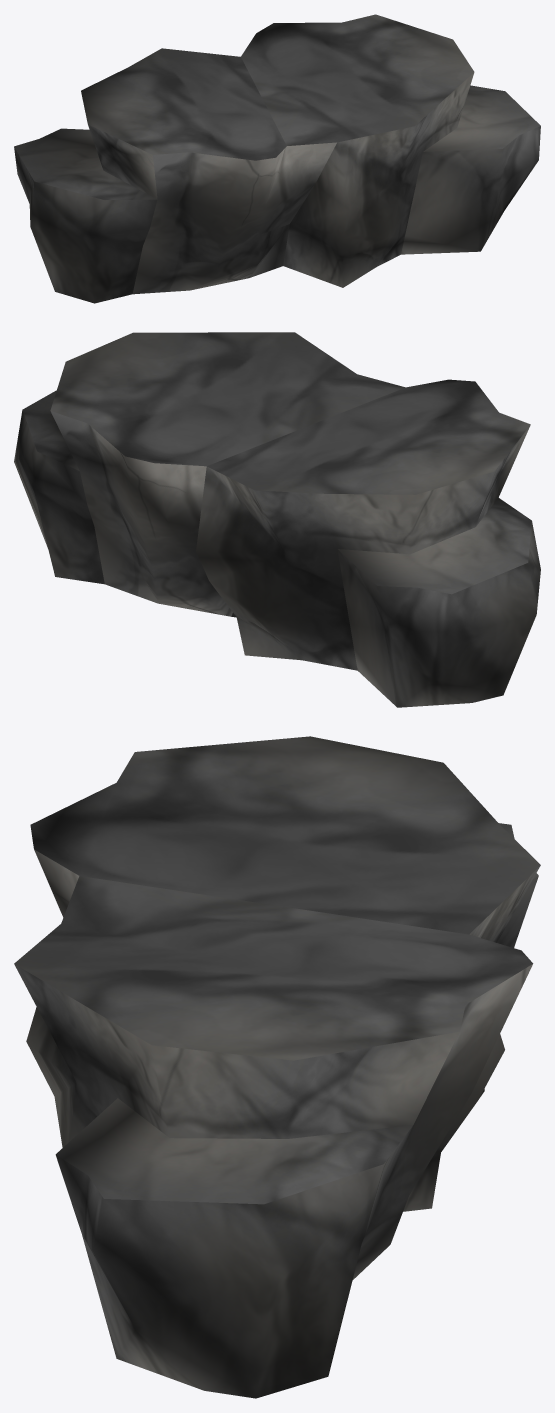
The model's file is M_gake3.fbx.
3 renders of one model, top to bottom at view 1: azimuth 30°, elevation 25°; view 2: azimuth 150°, elevation 25°; view 3: azimuth 270°, elevation 25°, orthographic. The views are drawn at different scales.
Parts seen in each view (by area): view 1: M_gake3; view 2: M_gake3; view 3: M_gake3.
Part boxes in pixels (left/top/right/bottom): M_gake3: left=14, top=14, right=540, bottom=303; M_gake3: left=14, top=332, right=540, bottom=707; M_gake3: left=14, top=736, right=540, bottom=1398.
Size of the model in its own units: 4264 by 1536 by 2317.
1 material, 1 textured.
